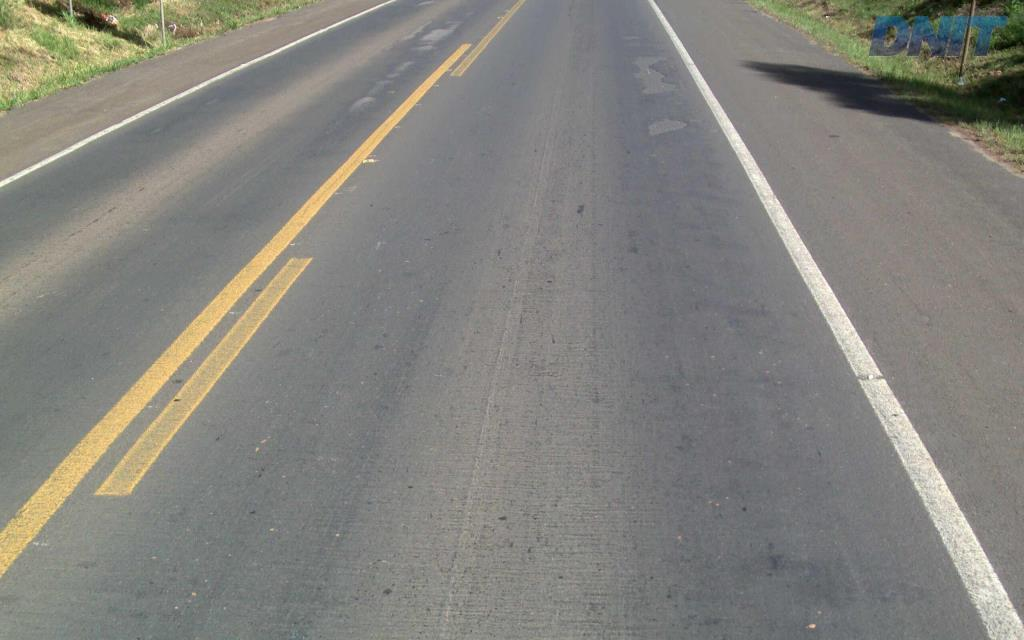pothole: (624, 50, 685, 98), (637, 112, 692, 138)
